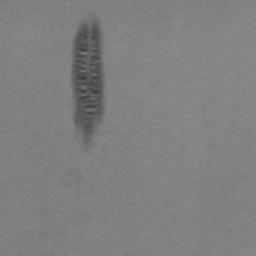Oxide scale of plate system: (72, 19, 104, 144)
